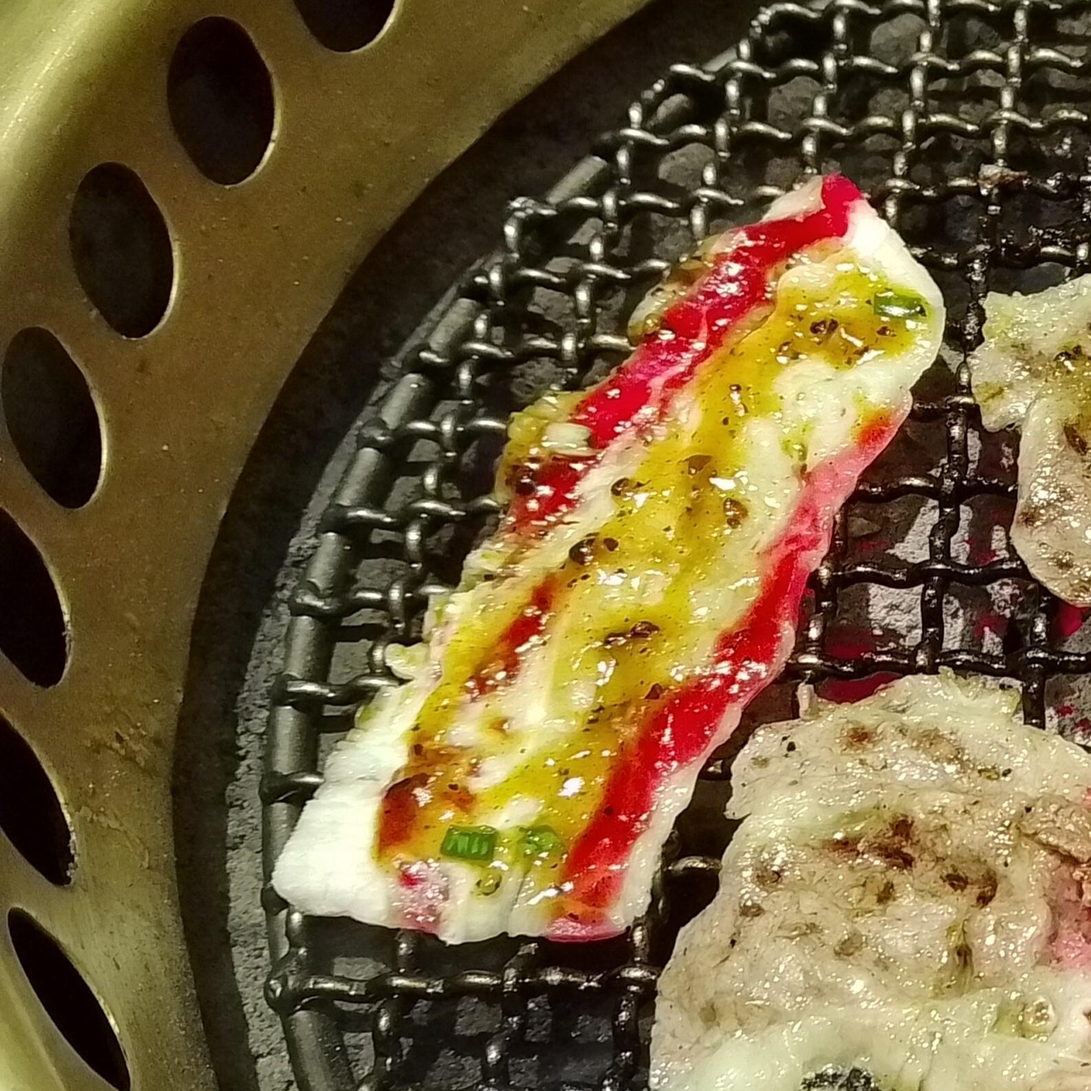Overcooked: (650, 677, 1090, 1090), (968, 273, 1090, 613)
Undercooked: (272, 175, 948, 947)
